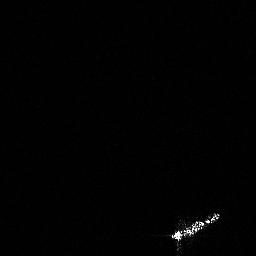ship: (171, 212, 220, 240)
